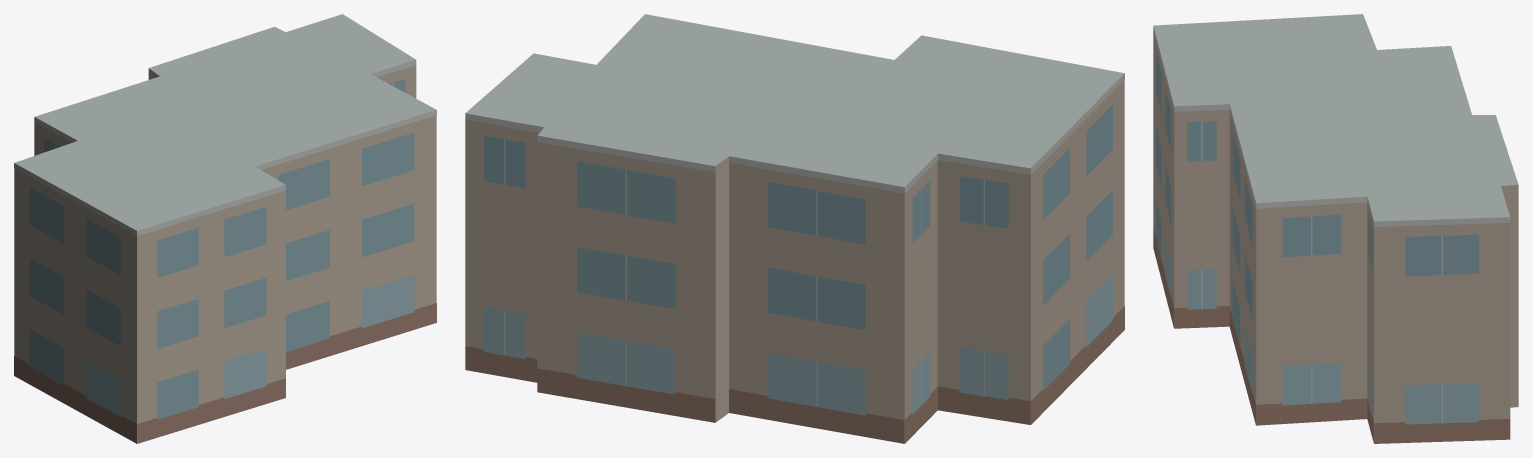
Rendered from survey-upis-32515062.glb.
3 renders of one model, left to right at view 1: azimuth 30°, elevation 25°; view 2: azimuth 150°, elevation 25°; view 3: azimuth 270°, elevation 25°, orthographic. The views are drawn at different scales.
Visible parts, largest first — view 1: survey-upis-32515062.tmp; view 2: survey-upis-32515062.tmp; view 3: survey-upis-32515062.tmp.
Part boxes in pixels (x1,y1,x2,y2): survey-upis-32515062.tmp: (14, 14, 436, 443); survey-upis-32515062.tmp: (465, 14, 1124, 443); survey-upis-32515062.tmp: (1153, 14, 1518, 443).
Bounding box in the file's own units: 19.63 × 9.8 × 14.6.
